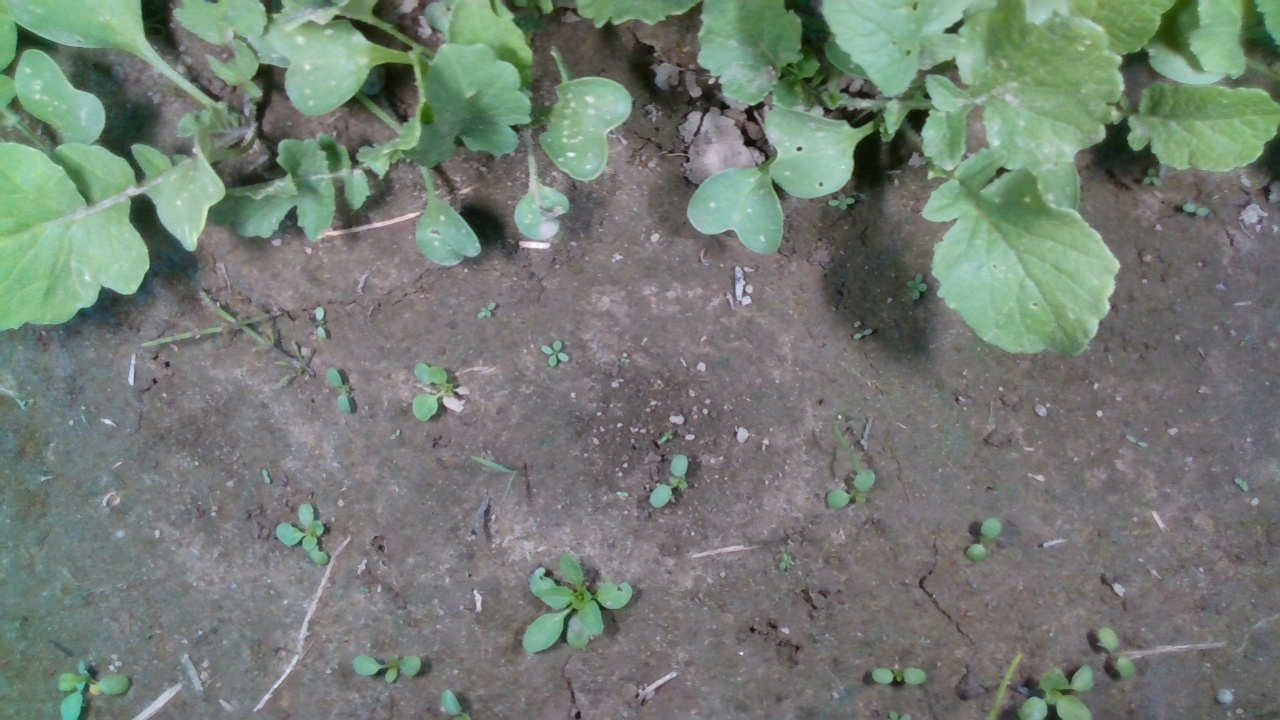weed: (648, 452, 689, 508), (350, 652, 421, 681), (1097, 627, 1137, 678), (825, 470, 876, 508), (965, 517, 1003, 564), (324, 365, 352, 415), (869, 667, 928, 685), (539, 339, 570, 369), (907, 271, 927, 301), (313, 304, 328, 342), (827, 192, 855, 211), (1182, 202, 1211, 217), (476, 300, 496, 320), (1143, 167, 1161, 187), (656, 427, 674, 446), (851, 326, 874, 338), (262, 468, 272, 485)
